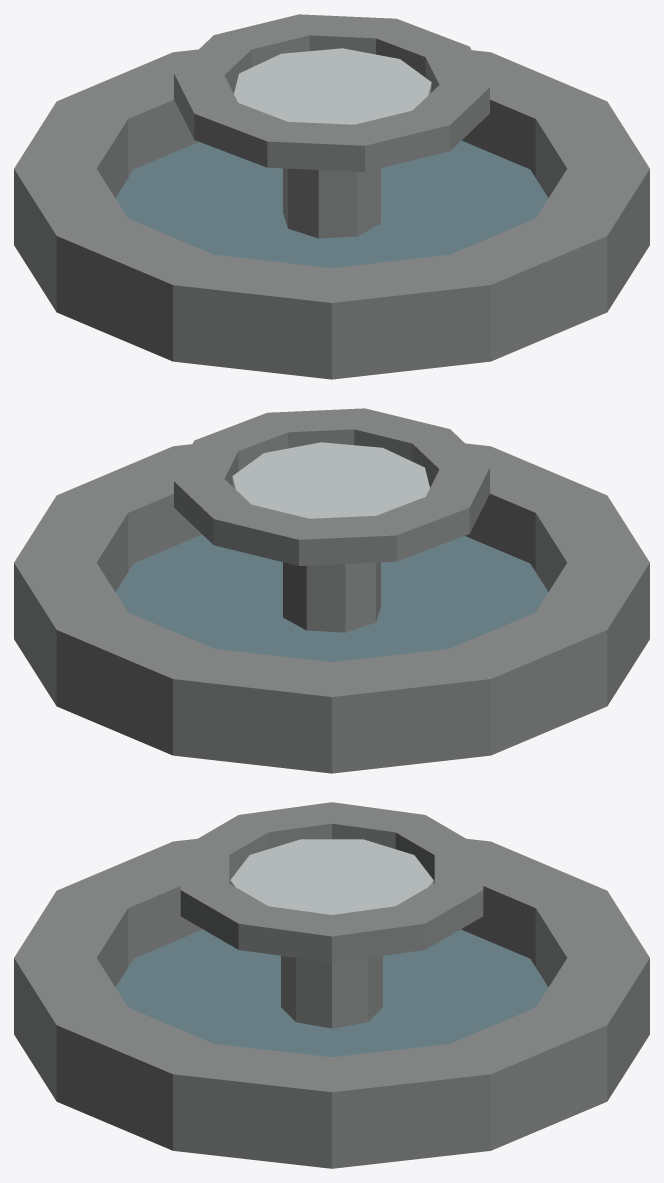
Rendered from frozen_fountain.glb.
The picture shows the model from 3 angles, top to bottom: view 1: azimuth 30°, elevation 25°; view 2: azimuth 150°, elevation 25°; view 3: azimuth 270°, elevation 25°; orthographic projection.
Visible parts, largest first — view 1: frozen_fountain; view 2: frozen_fountain; view 3: frozen_fountain.
Part boxes in pixels (left/top/right/bottom): frozen_fountain: left=14, top=14, right=649, bottom=379; frozen_fountain: left=14, top=408, right=649, bottom=773; frozen_fountain: left=14, top=802, right=649, bottom=1168.
Size of the model in its own units: 3.84 by 1.1 by 3.84.
